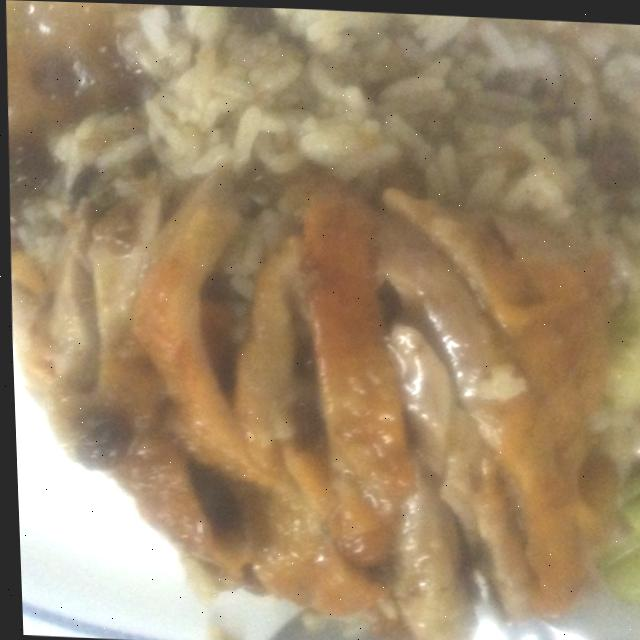米饭主食: (0, 15, 640, 640)
